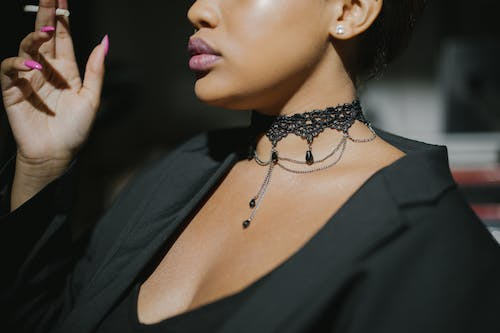cigarette: (23, 3, 72, 19)
